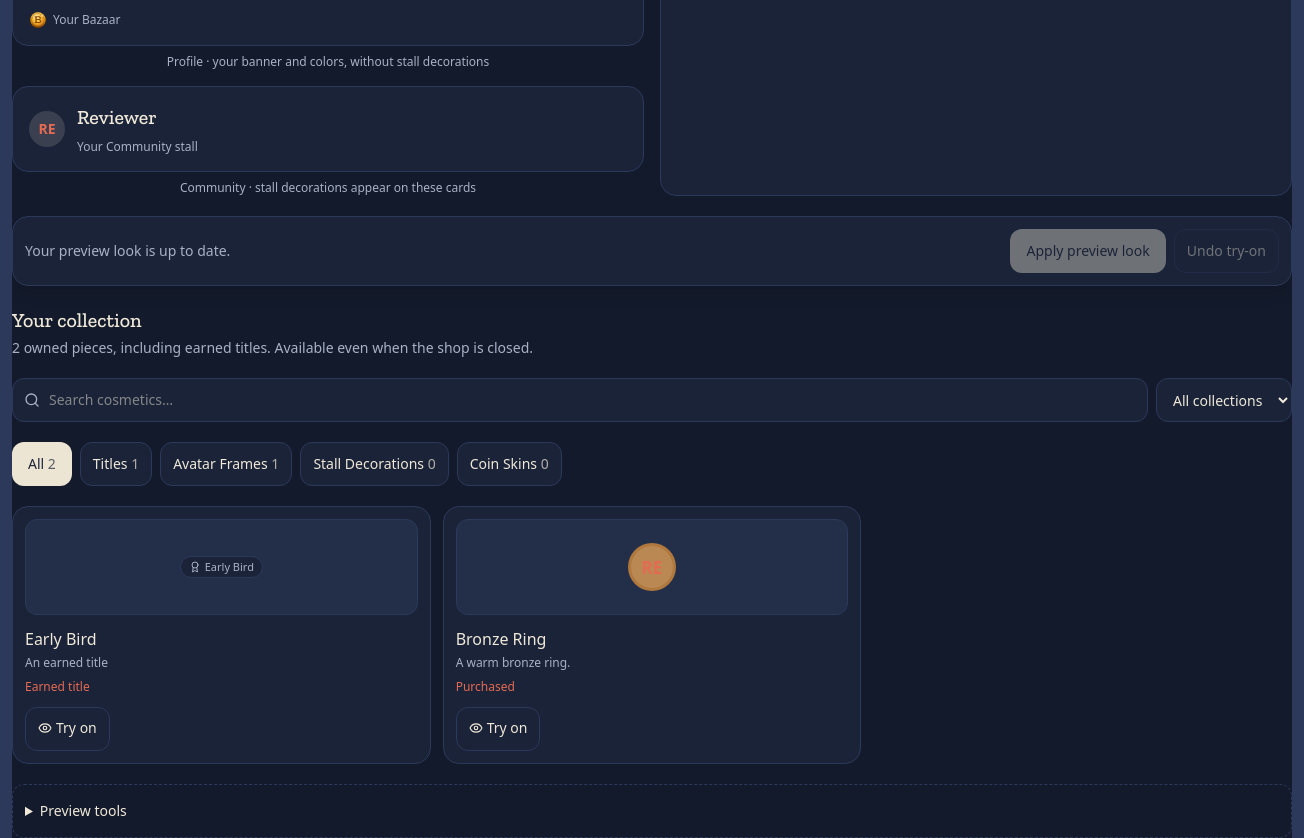
Test case: admin-only cosmetics preview › shows one Community preview and one action pair before and during try-on
The image size is (1304, 838).
(page scrolled)
Check: the number of elements with test id "community-look-preview" is 1, box left=12, top=86, right=644, bottom=172
Check: the number of buttons "Apply preview look" is 1, box left=1010, top=229, right=1166, bottom=273
Step 1. Click the button "Try on" below "Purchased" → [498, 729], box left=456, top=707, right=540, bottom=751
(page scrolled)
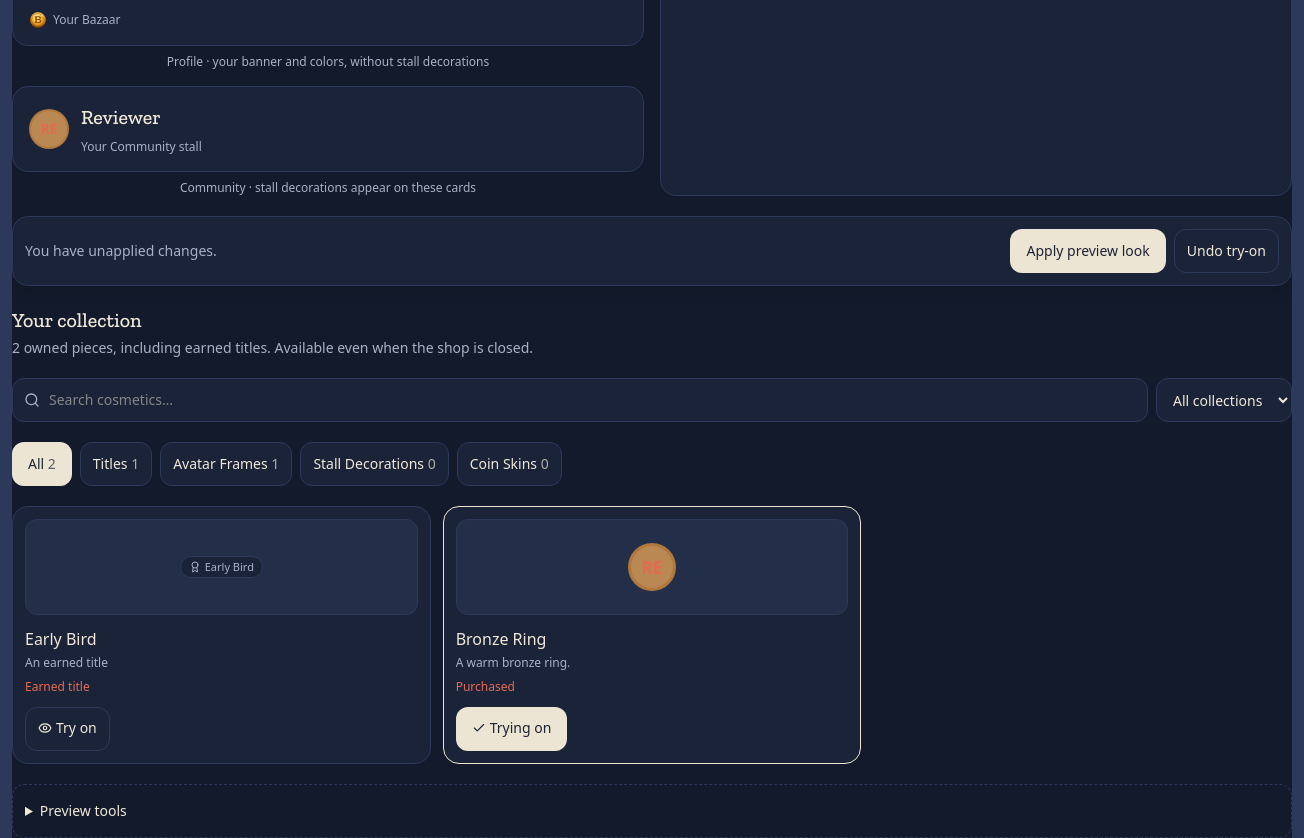
Check: the number of elements with test id "community-look-preview" is 1, box left=12, top=86, right=644, bottom=172
Check: the text "You have unapplied changes." is shown, box left=25, top=241, right=217, bottom=261
